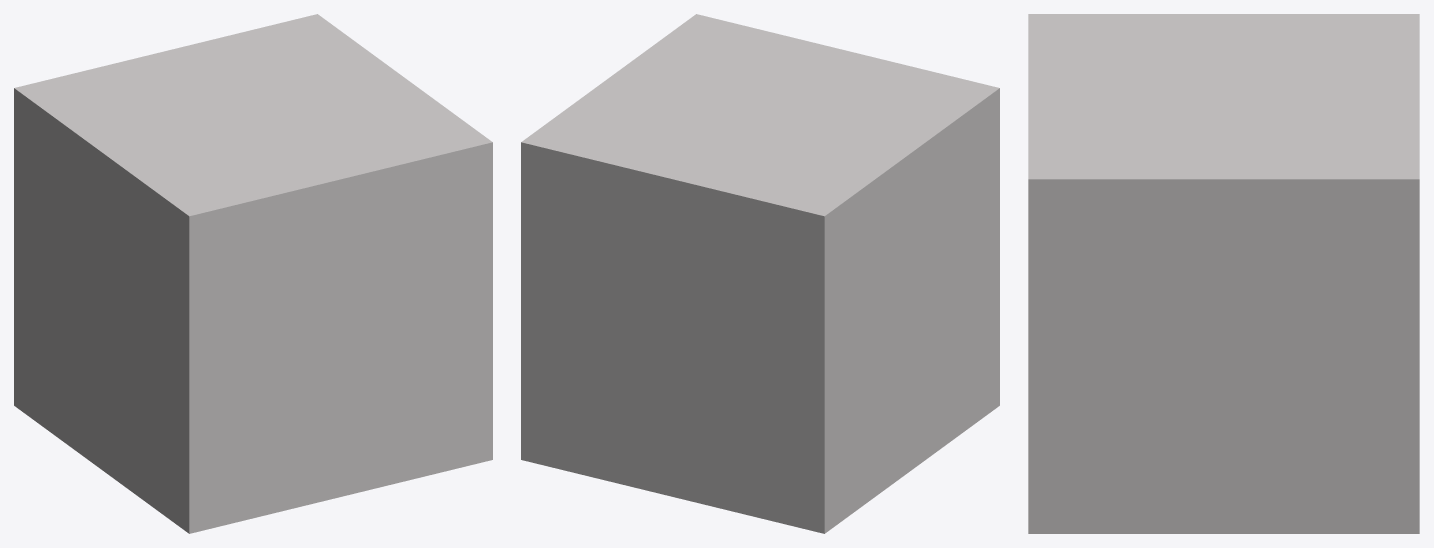
File: floor.gltf
The picture shows the model from 3 angles, left to right: view 1: azimuth 30°, elevation 25°; view 2: azimuth 150°, elevation 25°; view 3: azimuth 270°, elevation 25°; orthographic projection. The views are drawn at different scales.
Bounding box in the file's own units: 10 × 10 × 10.
Materials: 1 (1 with a texture image).
